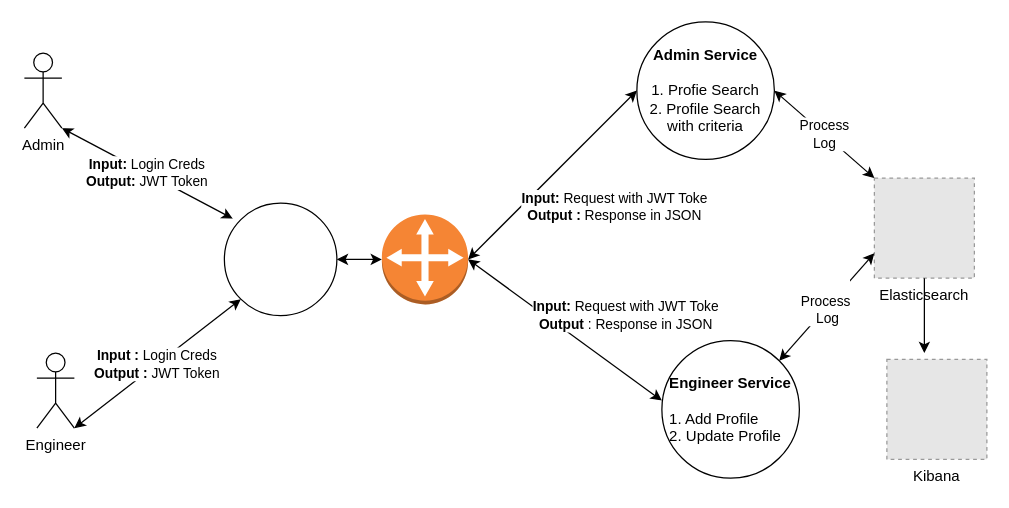
This 1009x508 diagram has some shape labels left out. Grey dashed boxes stand in for pictures. The shapes that lost their labels are listed below. From the top down, each one's centre as x and y in pixels, then its label:
At [280,259]: "Authentication Service".
At [424,258]: "Ocelot Gateway".
